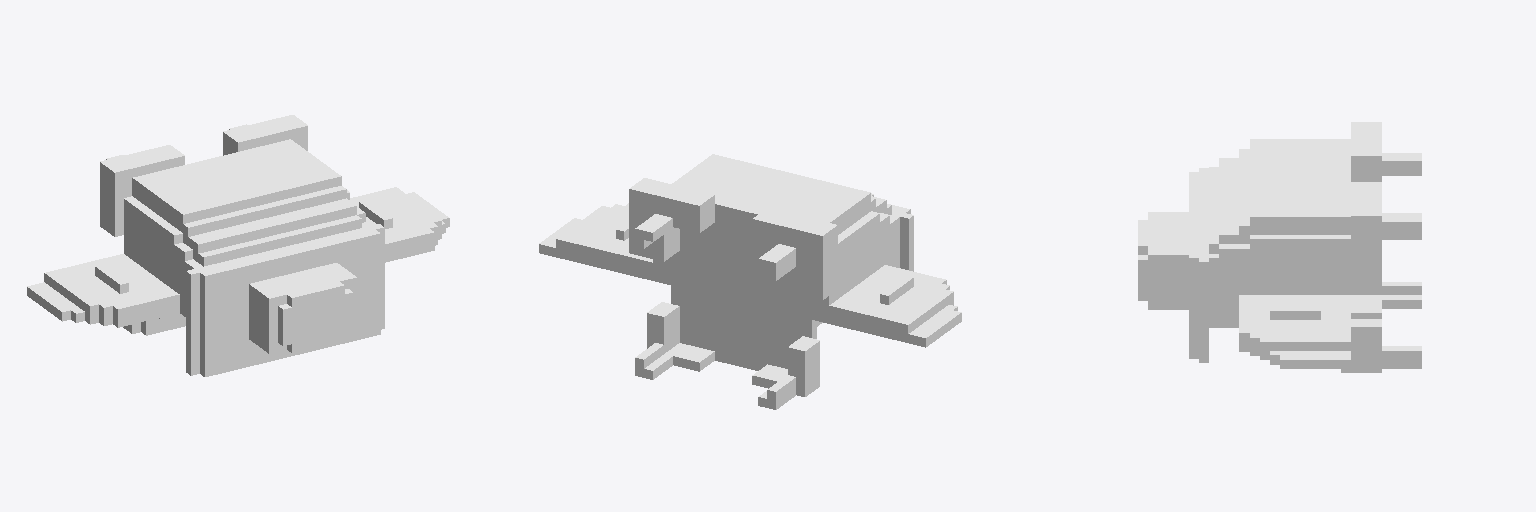
Rendered from player_plane.obj.
The picture shows the model from 3 angles: view 1: azimuth 30°, elevation 25°; view 2: azimuth 150°, elevation 25°; view 3: azimuth 270°, elevation 25°; orthographic projection.
Parts seen in each view (by area): view 1: wooden_box; view 2: wooden_box; view 3: wooden_box.
Part boxes in pixels (x1,y1,x2,y2): wooden_box: (27,115,449,376); wooden_box: (539,154,961,409); wooden_box: (1138,122,1421,372).
Bounding box in the file's own units: 4.4 × 1.8 × 2.8.